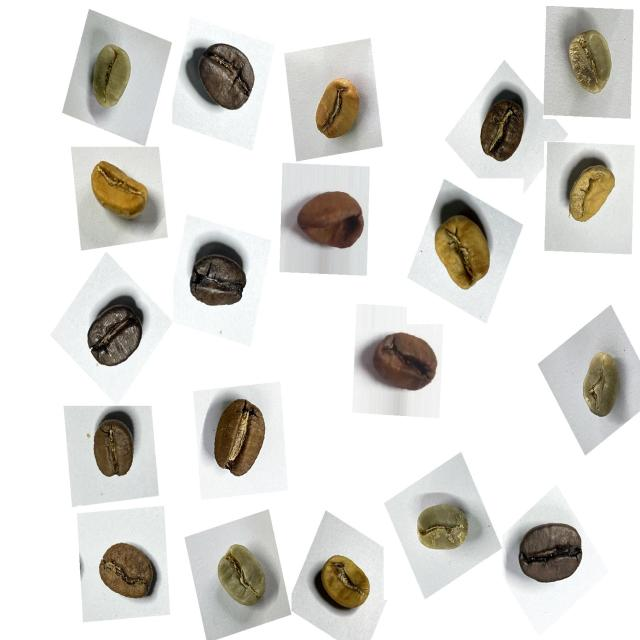bad: (362, 317, 445, 407), (291, 176, 373, 266)
dark: (512, 510, 593, 600), (188, 31, 265, 124), (179, 232, 254, 323), (78, 290, 151, 381)
green: (554, 16, 629, 112), (201, 534, 276, 622), (407, 492, 480, 569), (85, 36, 146, 122), (565, 342, 626, 426)
light: (422, 192, 508, 305), (82, 151, 158, 237), (307, 536, 381, 624), (554, 150, 623, 240), (306, 66, 372, 150)
medium: (200, 388, 277, 488), (88, 531, 164, 613), (468, 89, 537, 175), (81, 410, 145, 490)
